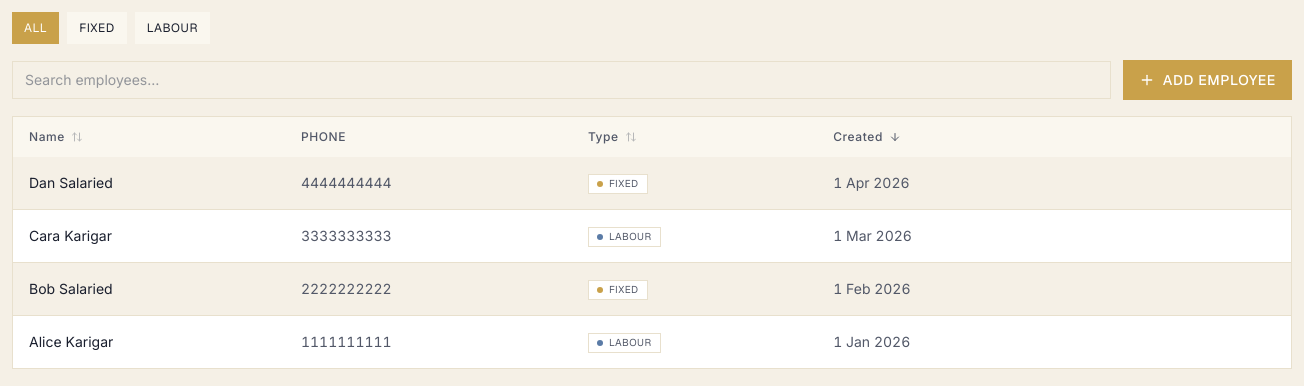
Test: EmployeesTable › filter pills › clicking 'Labour' pill shows only LABOUR employees
Step 1. Click the radio button labelled "Labour" → [173, 28], box [135, 12, 210, 44]
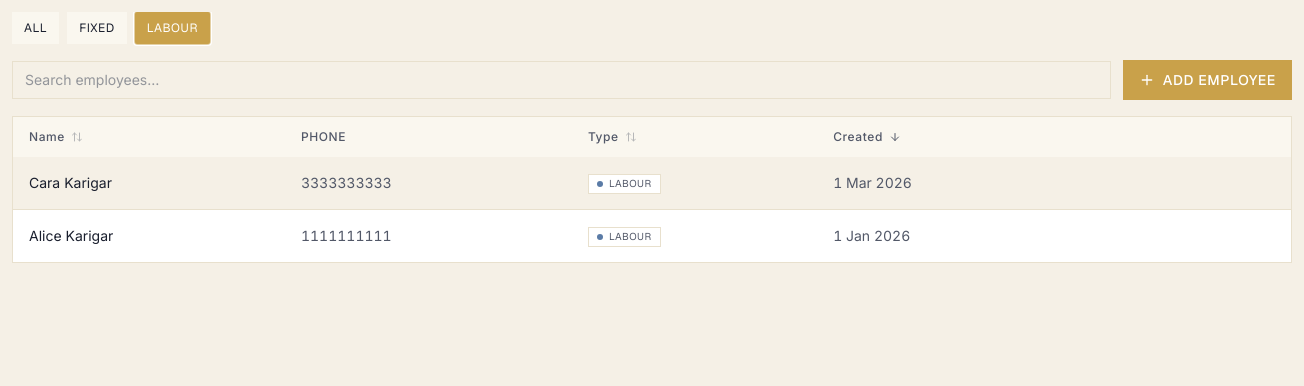
Expected: the text "Alice Karigar" is shown, [29, 227, 113, 244]
Now the text "Bob Salaried" is gone
Now the text "Dan Salaried" is gone
